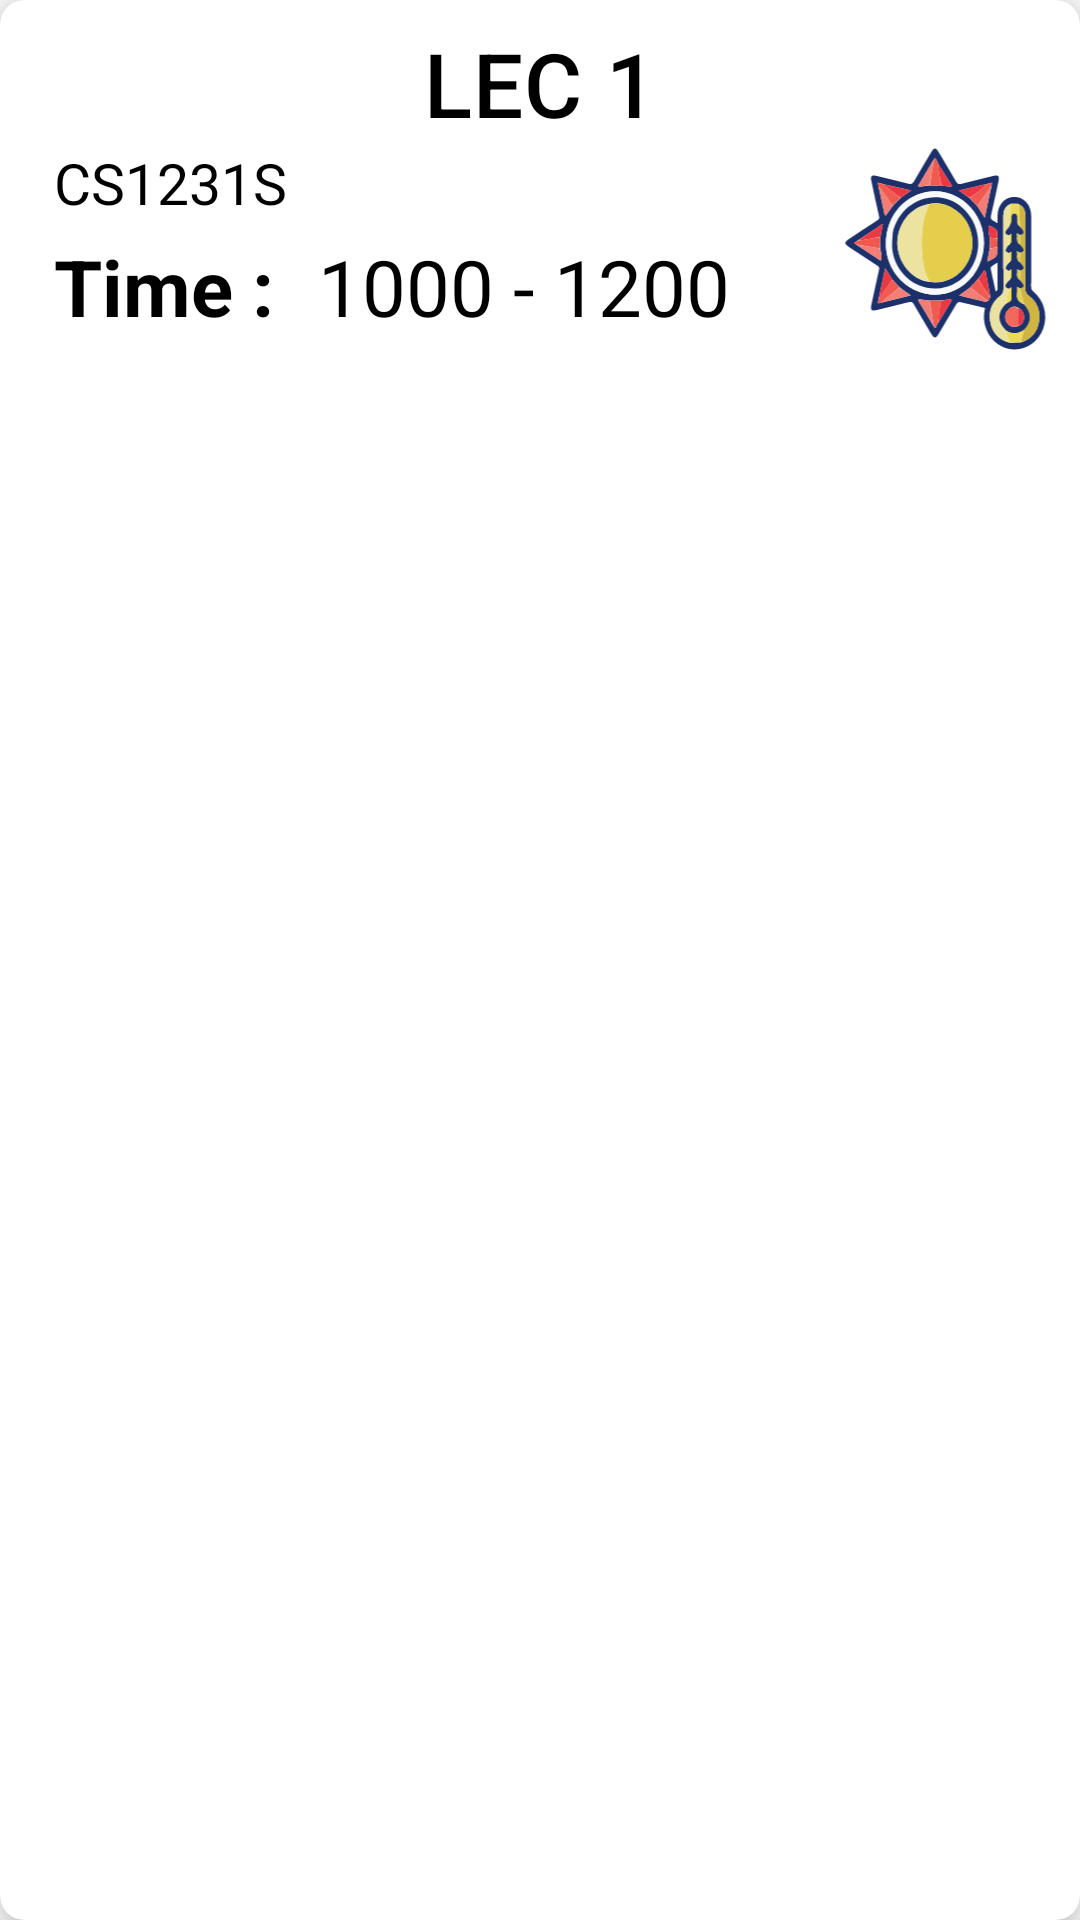

Locate icon controls on the screen. Image size 1080*1920, boxes as (x1, y1, x2, y2).
afternoon adobe express: (845, 148, 1046, 350)
